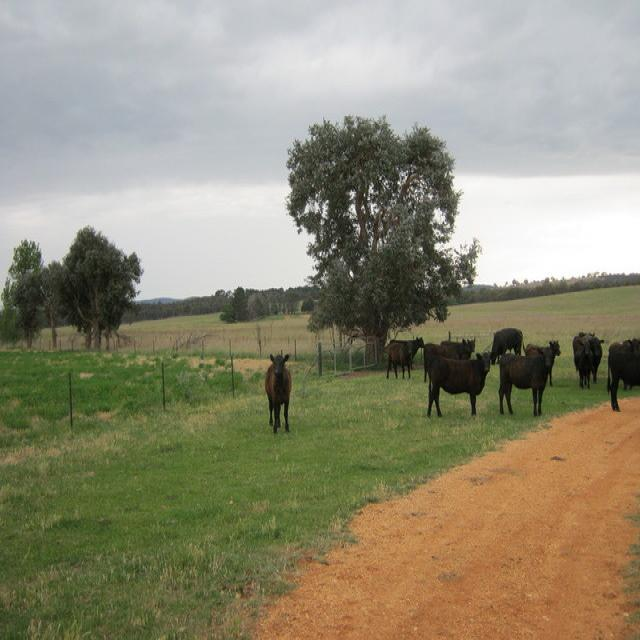cow: (424, 350, 493, 418), (496, 345, 552, 416), (421, 335, 472, 381), (606, 340, 639, 409), (263, 352, 290, 431), (385, 334, 423, 378), (524, 339, 559, 381), (490, 327, 521, 361), (572, 339, 593, 388), (388, 335, 422, 357), (588, 334, 603, 382)
